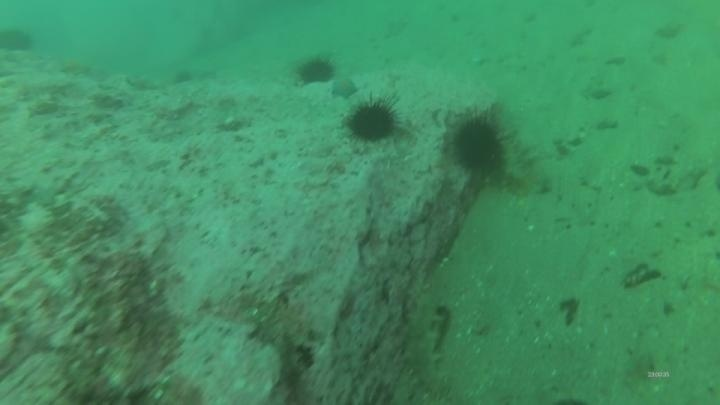echinus: (447, 109, 512, 180), (344, 96, 401, 144), (294, 54, 337, 88), (0, 24, 36, 56)
holothurian: (399, 292, 452, 400), (495, 127, 537, 193)
starfish: (328, 75, 360, 101)
